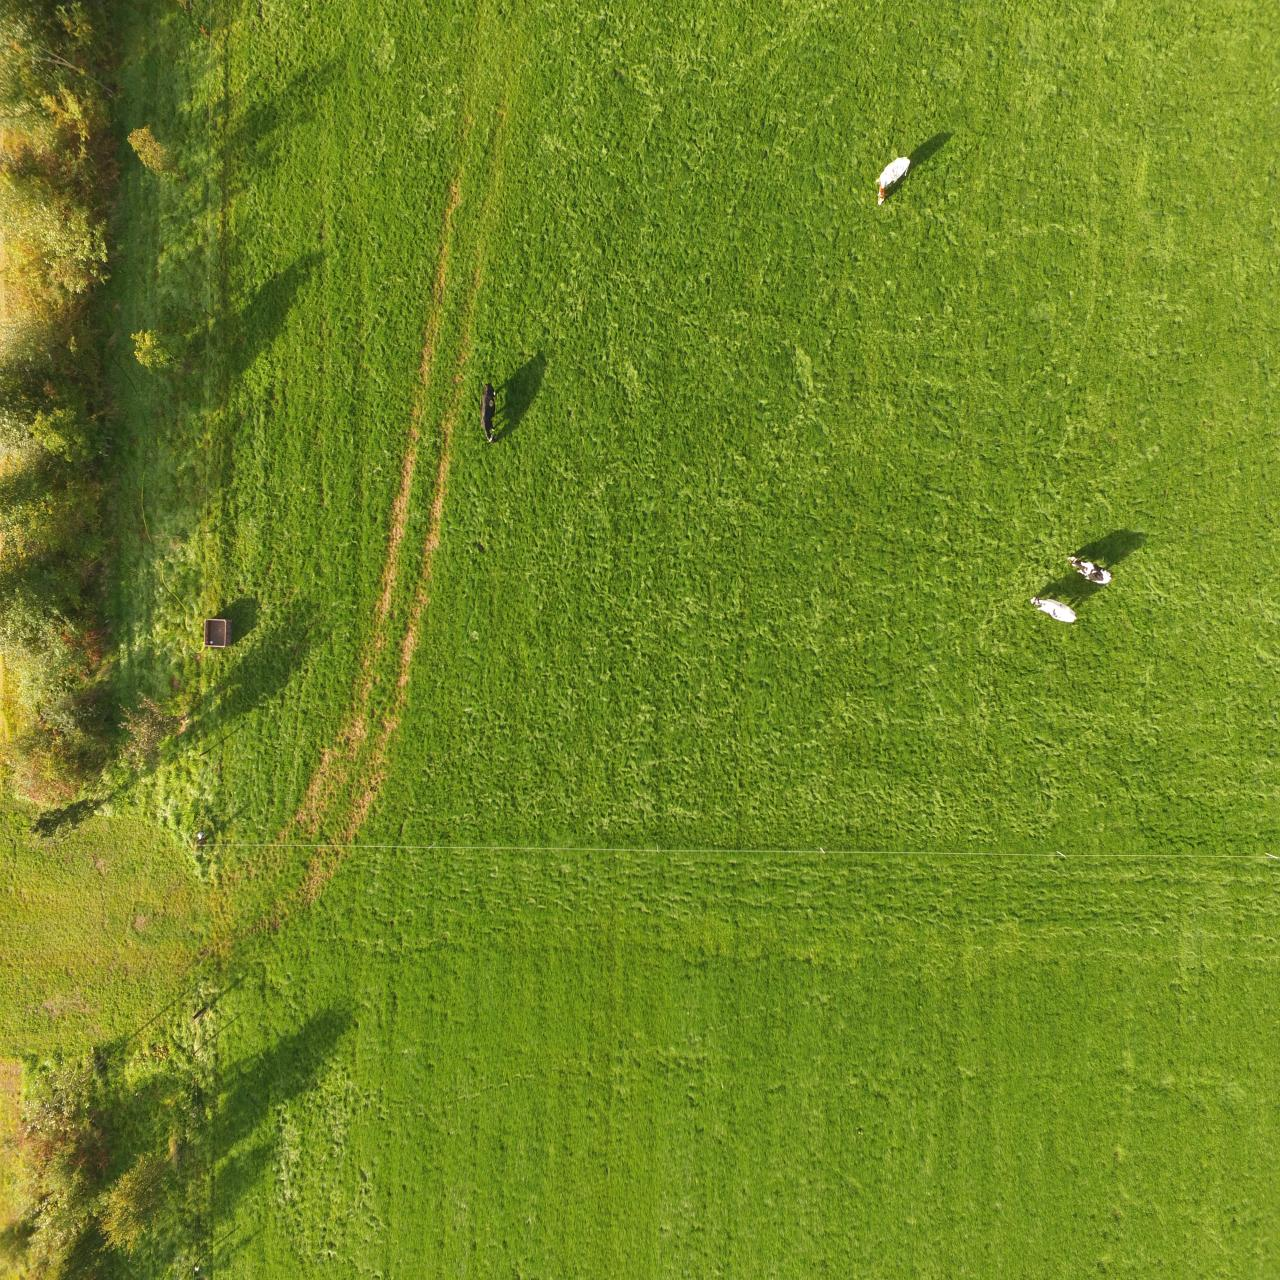cow: (1027, 590, 1080, 628), (874, 154, 911, 207), (1064, 551, 1114, 586), (479, 380, 498, 447)
